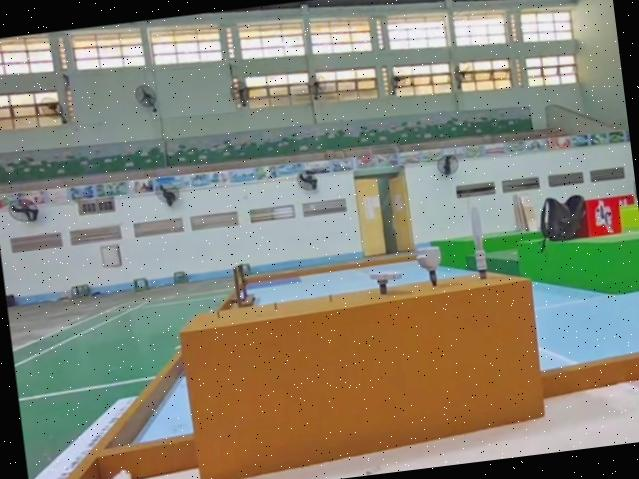Fist: (415, 242, 448, 288)
Hand: (366, 265, 403, 295)
Sph: (463, 203, 490, 282)
